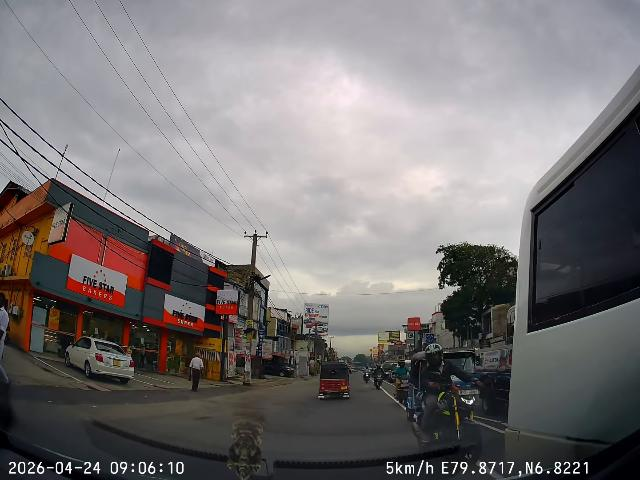illegal overtaking: (409, 342, 490, 452)
